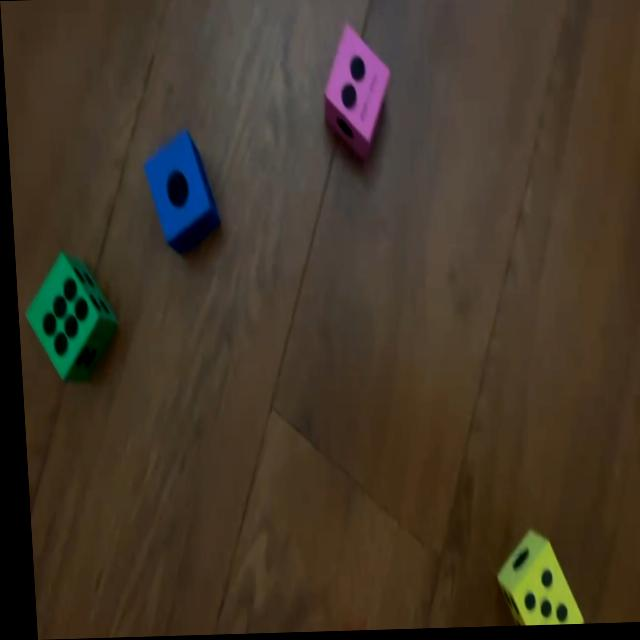blue_block: (139, 130, 218, 253)
